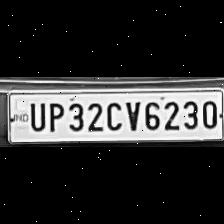0: (199, 97, 219, 128)
2: (84, 98, 104, 132), (162, 98, 180, 130)
3: (65, 98, 84, 132), (180, 97, 198, 129)
6: (140, 98, 160, 130)
C: (104, 98, 122, 132)
P: (46, 100, 64, 132)
U: (25, 99, 45, 131)
V: (122, 97, 140, 131)
